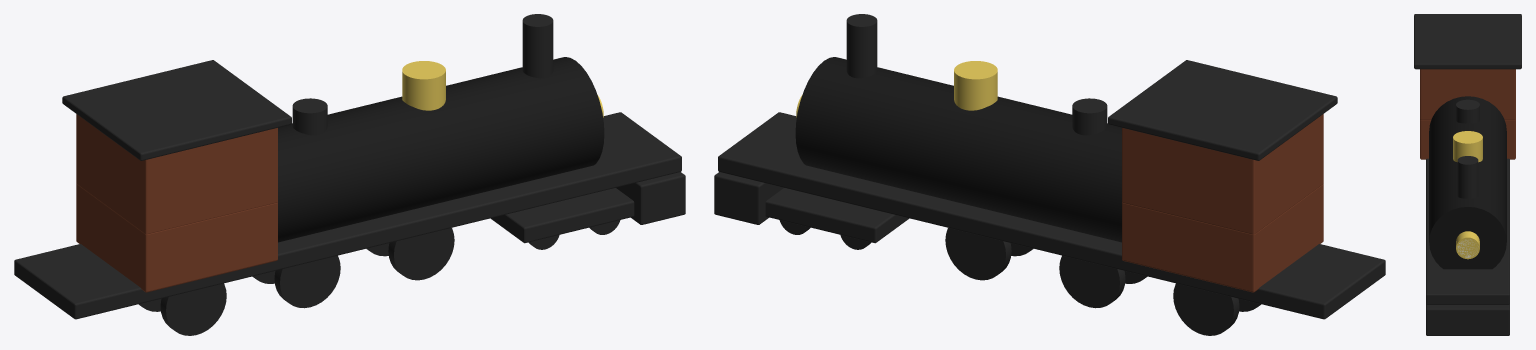
File: Steam_Locomotive.fbx
The picture shows the model from 3 angles, left to right: view 1: azimuth 30°, elevation 25°; view 2: azimuth 150°, elevation 25°; view 3: azimuth 270°, elevation 25°; orthographic projection. The views are drawn at different scales.
Visible parts, largest first — view 1: Body_Boiler, Chassis, Body_CabinTop, Body_CabinRoof, Body_CabinBase, Bogie_Front, Wheel_Drive_R_1, Wheel_Drive_R_2, Wheel_Drive_R_3, Acc_Cowcatcher, Acc_SteamDome, Acc_Smokestack (+1 smaller); view 2: Body_Boiler, Chassis, Body_CabinTop, Body_CabinRoof, Body_CabinBase, Bogie_Front, Wheel_Drive_L_1, Wheel_Drive_L_2, Wheel_Drive_L_3, Acc_Cowcatcher, Acc_SteamDome, Acc_Smokestack (+1 smaller); view 3: Body_Boiler, Body_CabinRoof, Chassis, Body_CabinTop, Acc_Cowcatcher, Acc_Smokestack, Acc_SteamDome, Body_CabinBase, Headlight_Housing, Acc_SandDome, Headlight_Bulb.
Boxes of the visible parts, x1,y1,x2,y2 form: Body_Boiler: (278, 57, 604, 242); Chassis: (14, 112, 681, 319); Body_CabinTop: (76, 114, 277, 234); Body_CabinRoof: (62, 60, 291, 160); Body_CabinBase: (76, 184, 277, 292); Bogie_Front: (490, 188, 634, 243); Wheel_Drive_R_1: (388, 228, 454, 280); Wheel_Drive_R_2: (274, 255, 340, 308); Wheel_Drive_R_3: (160, 283, 226, 335); Acc_Cowcatcher: (616, 172, 685, 224); Acc_SteamDome: (402, 61, 445, 110); Acc_Smokestack: (522, 14, 553, 78); Body_Boiler: (795, 57, 1121, 242); Chassis: (718, 112, 1385, 319); Body_CabinTop: (1122, 114, 1323, 234); Body_CabinRoof: (1108, 60, 1337, 160); Body_CabinBase: (1122, 184, 1323, 292); Bogie_Front: (765, 188, 909, 243); Wheel_Drive_L_1: (945, 228, 1011, 280); Wheel_Drive_L_2: (1059, 255, 1125, 308); Wheel_Drive_L_3: (1173, 283, 1239, 335); Acc_Cowcatcher: (714, 172, 783, 224); Acc_SteamDome: (954, 61, 997, 110); Acc_Smokestack: (846, 14, 877, 78); Body_Boiler: (1429, 96, 1506, 269); Body_CabinRoof: (1414, 14, 1521, 69); Chassis: (1426, 158, 1509, 304); Body_CabinTop: (1420, 69, 1515, 119); Acc_Cowcatcher: (1426, 304, 1509, 335); Acc_Smokestack: (1457, 156, 1478, 198); Acc_SteamDome: (1453, 131, 1482, 162); Body_CabinBase: (1420, 119, 1515, 159); Headlight_Housing: (1456, 231, 1479, 259); Acc_SandDome: (1456, 99, 1479, 123); Headlight_Bulb: (1457, 239, 1478, 257).
Bounding box in the file's own units: 16.1 × 3.6 × 5.4.
